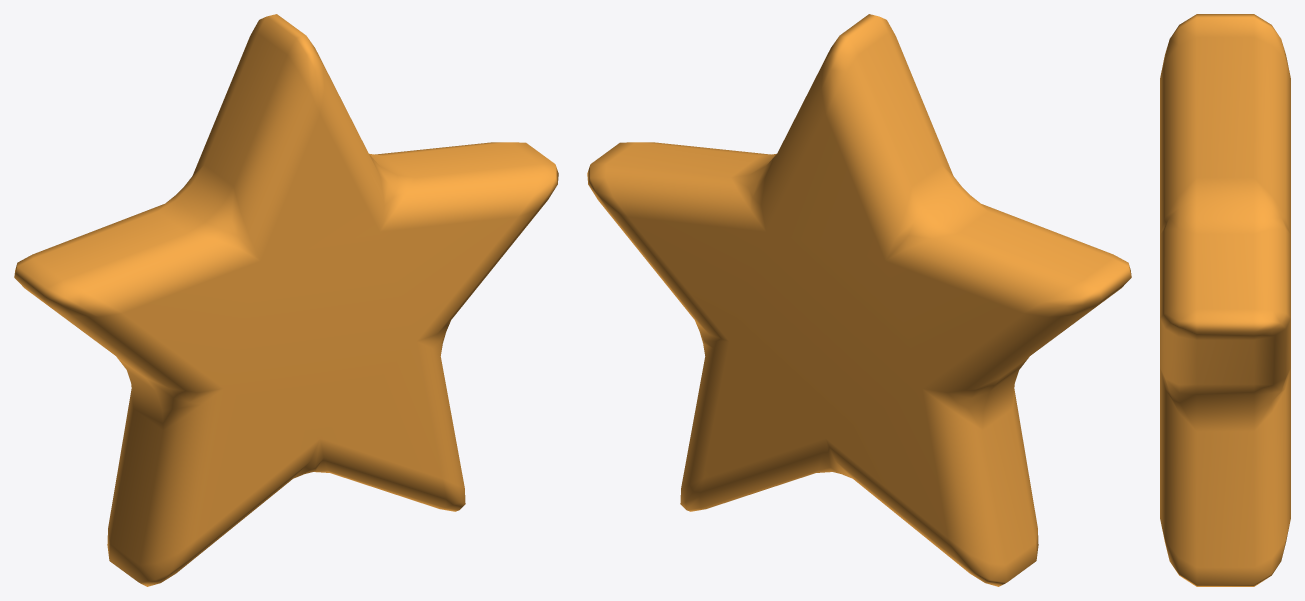
The model's file is bonus_star.glb.
The picture shows the model from 3 angles, left to right: view 1: azimuth 30°, elevation 25°; view 2: azimuth 150°, elevation 25°; view 3: azimuth 270°, elevation 25°; orthographic projection. The views are drawn at different scales.
Parts seen in each view (by area): view 1: Lucky star; view 2: Lucky star; view 3: Lucky star.
Part boxes in pixels (left/top/right/bottom): Lucky star: left=14, top=14, right=558, bottom=586; Lucky star: left=587, top=14, right=1131, bottom=586; Lucky star: left=1160, top=14, right=1290, bottom=586.
Size of the model in its own units: 0.7054 by 0.6709 by 0.16.
